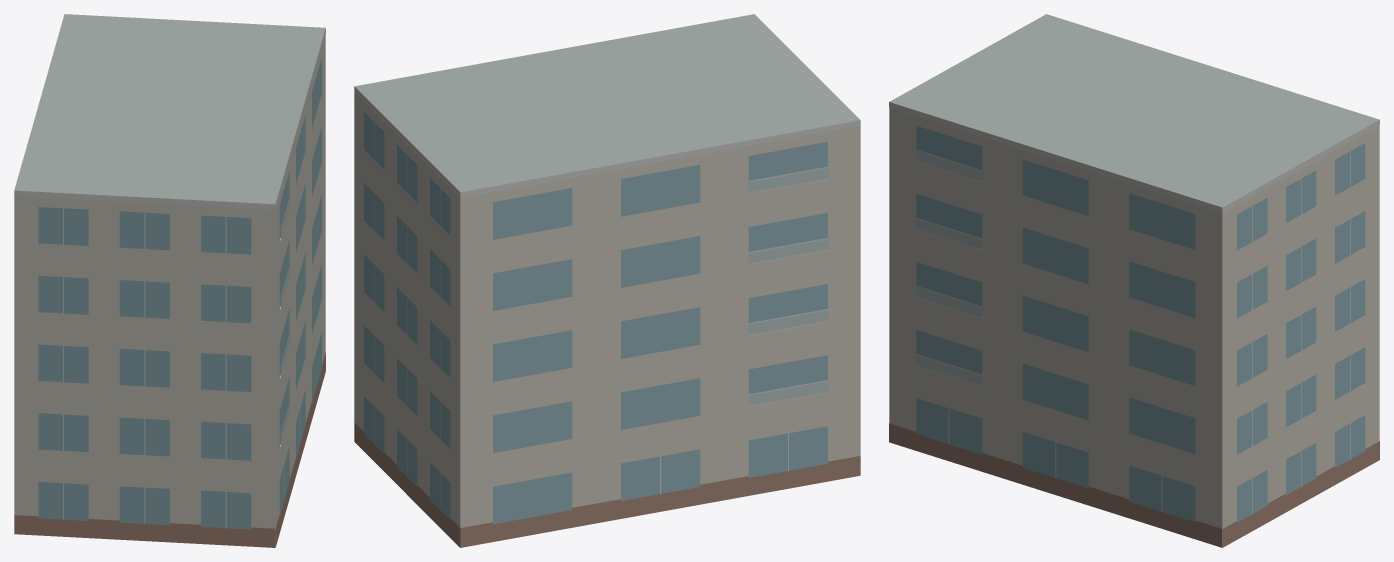
Rendered from survey-upis-32511274.glb.
The picture shows the model from 3 angles, left to right: view 1: azimuth 30°, elevation 25°; view 2: azimuth 150°, elevation 25°; view 3: azimuth 270°, elevation 25°; orthographic projection. The views are drawn at different scales.
Visible parts, largest first — view 1: survey-upis-32511274.tmp; view 2: survey-upis-32511274.tmp; view 3: survey-upis-32511274.tmp.
Boxes of the visible parts, x1,y1,x2,y2 form: survey-upis-32511274.tmp: (14, 14, 325, 547); survey-upis-32511274.tmp: (354, 14, 860, 547); survey-upis-32511274.tmp: (889, 14, 1379, 547).
Size of the model in its own units: 18.61 by 15.25 by 19.93.
